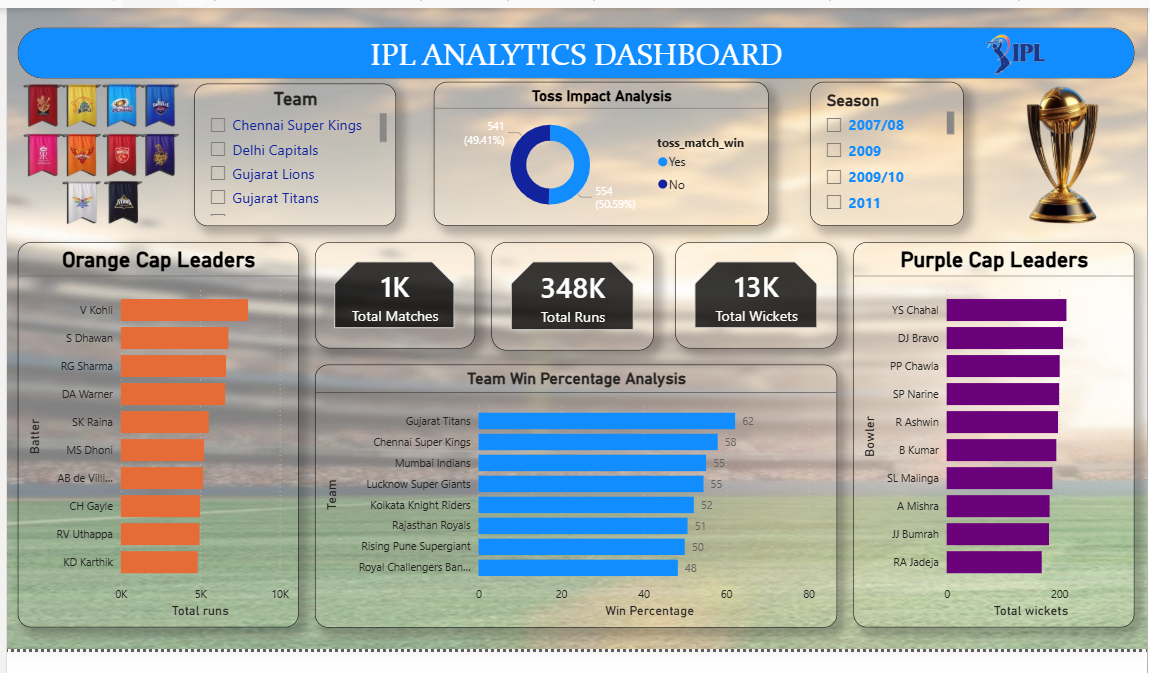

The page's visual inventory and layout, read from the dashboard file:
{"tool":"powerbi","page":{"name":"Page 1","canvas":[1280,720],"ordinal":0},"visuals":[{"type":"textbox","title":"IPL ANALYTICS DASHBOARD","box":[12.1,22.2,1253.8,56.6],"z":0},{"type":"image","box":[0,82.9,210.3,161.8],"z":1000},{"type":"cardVisual","fields":{"Data":["deliveries_cleaned.Total Matches"]},"box":[345.8,262.9,180,119.3],"z":2000},{"type":"cardVisual","fields":{"Data":["deliveries_cleaned.Total Wickets"]},"box":[750.3,262.9,182,119.3],"z":3000},{"type":"barChart","title":"Orange Cap Leaders","fields":{"Category":["orange_cap.batter"],"Y":["Sum(orange_cap.runs)"]},"box":[12.1,262.9,315.5,432.8],"z":4000},{"type":"cardVisual","fields":{"Data":["deliveries_cleaned.Total Runs"]},"box":[544,262.9,182,121.3],"z":5000},{"type":"clusteredBarChart","title":"Purple Cap Leaders","fields":{"Category":["purple_cap.bowler"],"Y":["Sum(purple_cap.wickets)"]},"box":[950.5,262.9,315.5,432.8],"z":6000},{"type":"donutChart","title":"Toss Impact Analysis","fields":{"Category":["matches_cleaned.toss_match_win"],"Y":["CountNonNull(matches_cleaned.toss_match_win)"]},"box":[479.3,82.9,376.2,161.8],"z":7000},{"type":"slicer","fields":{"Values":["matches_cleaned.season"]},"box":[902,82.9,171.9,161.8],"z":8000},{"type":"slicer","title":"Team","fields":{"Values":["team_consistency.team"]},"box":[210.3,84.9,226.5,159.8],"z":9000},{"type":"clusteredBarChart","title":"Team Win Percentage Analysis","fields":{"Category":["team_consistency.team"],"Y":["Sum(team_consistency.win_percentage)"]},"box":[345.8,400.4,586.5,295.3],"z":10000},{"type":"image","box":[1088,80.9,192.1,165.8],"z":11000},{"type":"image","box":[988.9,0,291.2,109.2],"z":12000}]}

Visuals, with their boxes on the page's 1280x720 design canvas (x1, y1, x2, y2). These are canvas units, not pixel positions in the 1150x673 screenshot, which may show the page scaled, cropped or inside an application window:
"IPL ANALYTICS DASHBOARD" textbox: BBox(12, 22, 1266, 79)
image: BBox(0, 83, 210, 245)
cardVisual - deliveries_cleaned.Total Matches: BBox(346, 263, 526, 382)
cardVisual - deliveries_cleaned.Total Wickets: BBox(750, 263, 932, 382)
"Orange Cap Leaders" barChart: BBox(12, 263, 328, 696)
cardVisual - deliveries_cleaned.Total Runs: BBox(544, 263, 726, 384)
"Purple Cap Leaders" clusteredBarChart: BBox(950, 263, 1266, 696)
"Toss Impact Analysis" donutChart: BBox(479, 83, 856, 245)
slicer - matches_cleaned.season: BBox(902, 83, 1074, 245)
"Team" slicer: BBox(210, 85, 437, 245)
"Team Win Percentage Analysis" clusteredBarChart: BBox(346, 400, 932, 696)
image: BBox(1088, 81, 1280, 247)
image: BBox(989, 0, 1280, 109)
